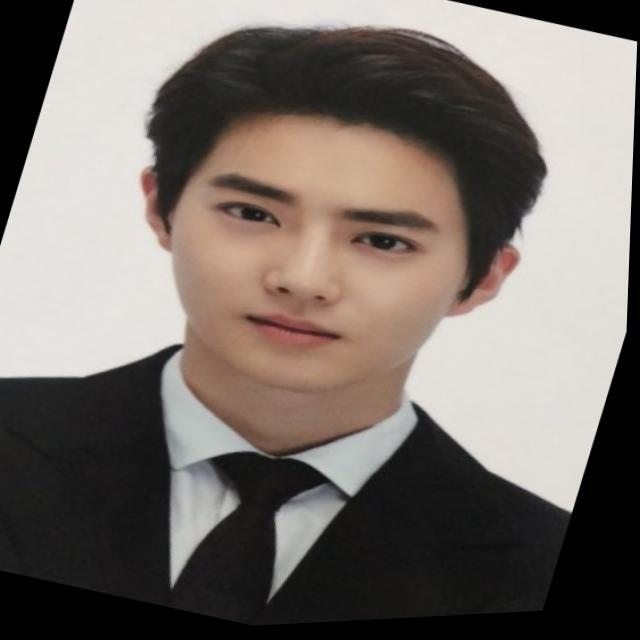Nonhelmet: (136, 0, 561, 409)
